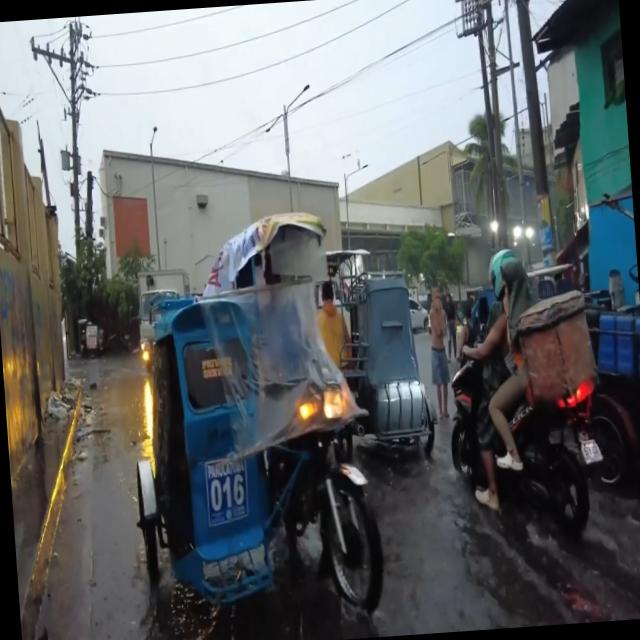full: (486, 246, 519, 304)
